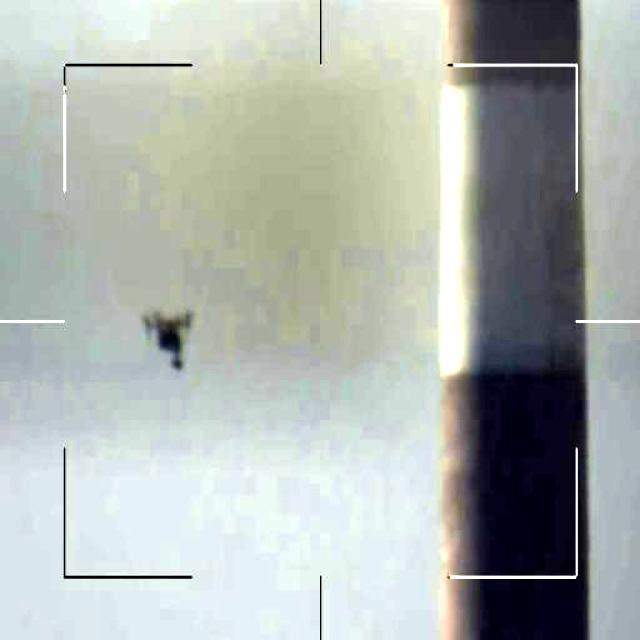bird: (140, 305, 206, 379)
